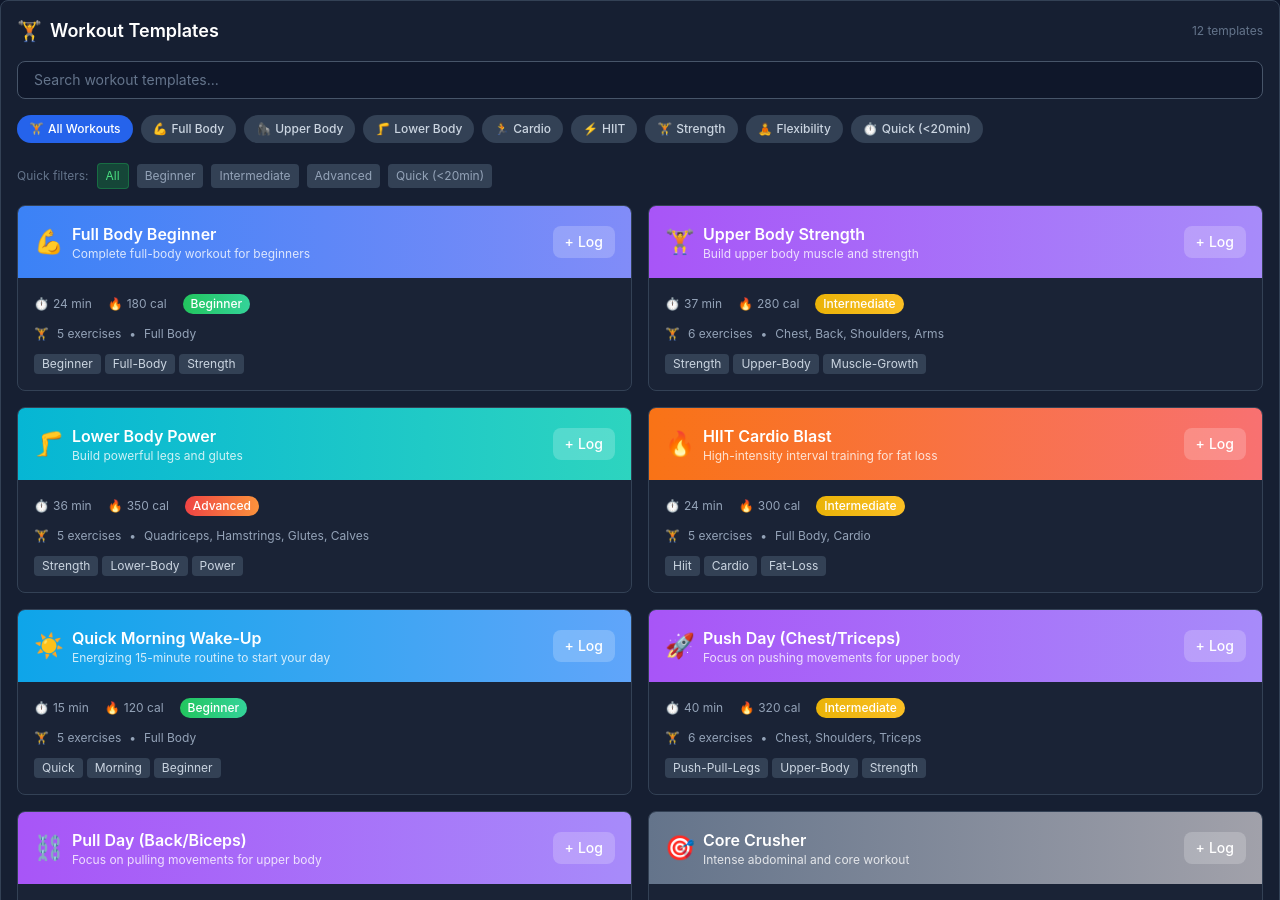
Scenario: WorkoutTemplates Component › Search Functionality › should show no results message for empty search
Type "xyznonexistent123" into the field with placeholder "Search workout templates...".
click(640, 80); type("xyznonexistent123")  # box x1=17 y1=61 x2=1263 y2=99
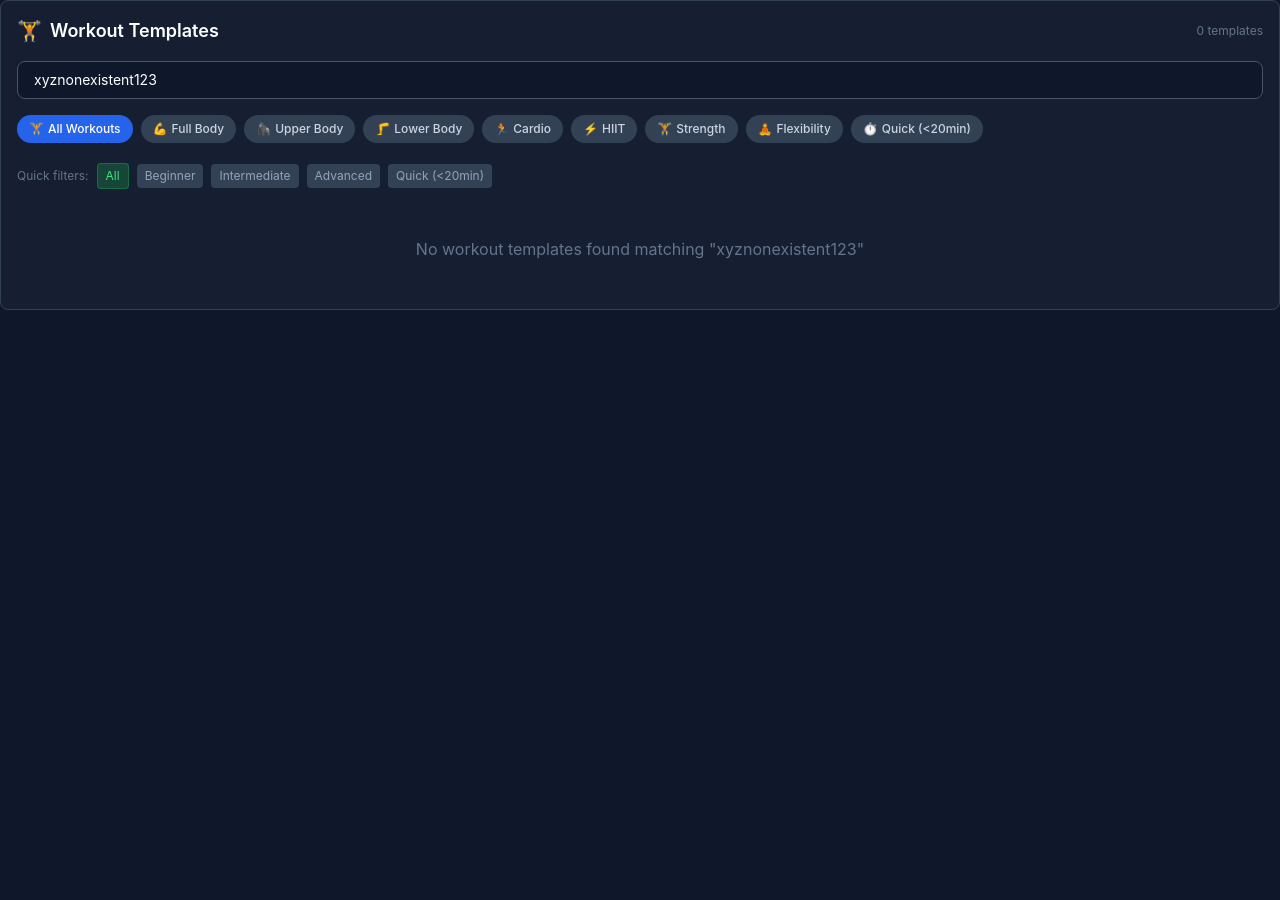
Check: the text "No workout templates found matching \"xyznonexistent123\"" is shown, box x1=416 y1=239 x2=864 y2=259
